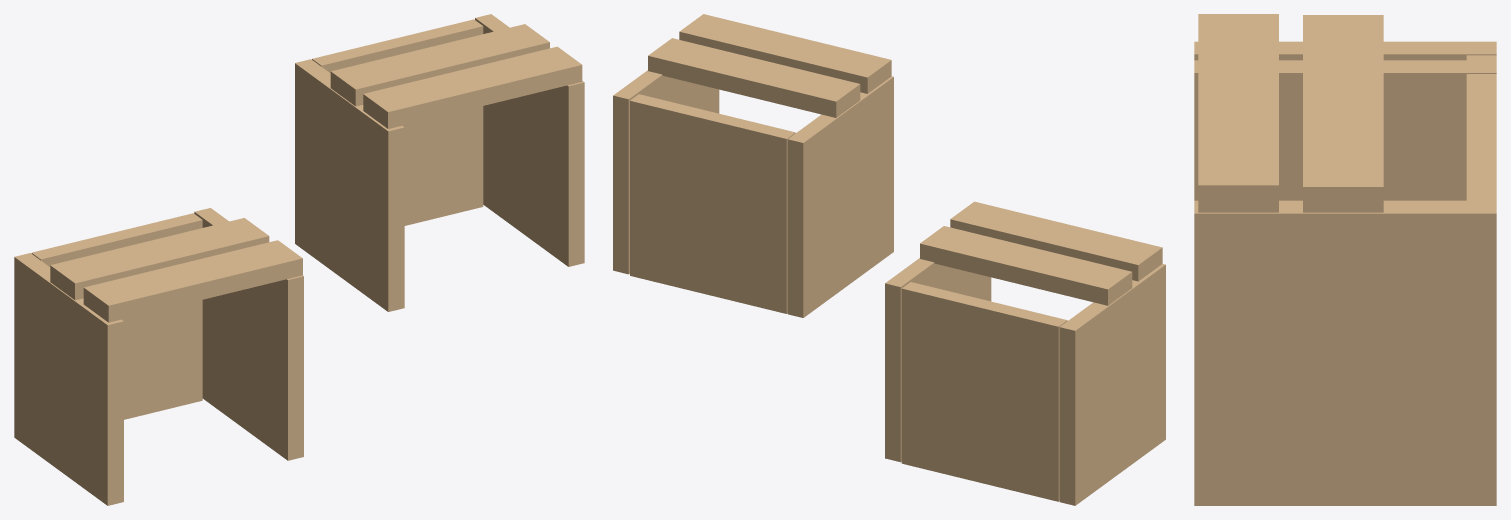
Rendered from tinker.obj.
3 views of the same model, side by side, from view 1: azimuth 30°, elevation 25°; view 2: azimuth 150°, elevation 25°; view 3: azimuth 270°, elevation 25° (orthographic). The views are drawn at different scales.
Parts seen in each view (by area): view 1: obj_0; view 2: obj_0; view 3: obj_0.
Part boxes in pixels (x1,y1,x2,y2): obj_0: [14, 14, 584, 505]; obj_0: [613, 14, 1165, 505]; obj_0: [1194, 14, 1496, 505].
Size of the model in its own units: 442 by 287 by 150.
